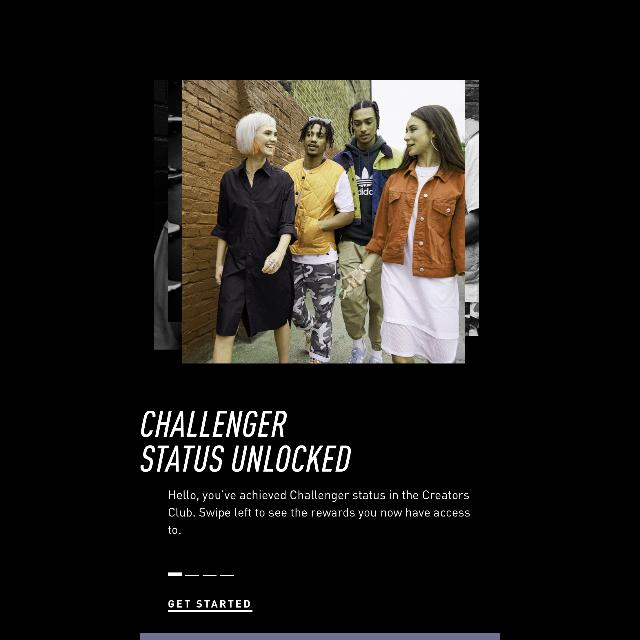image: (154, 80, 480, 364)
pageindicator: (168, 572, 234, 576)
text: (168, 490, 470, 534), (140, 410, 352, 472), (168, 600, 252, 612)
